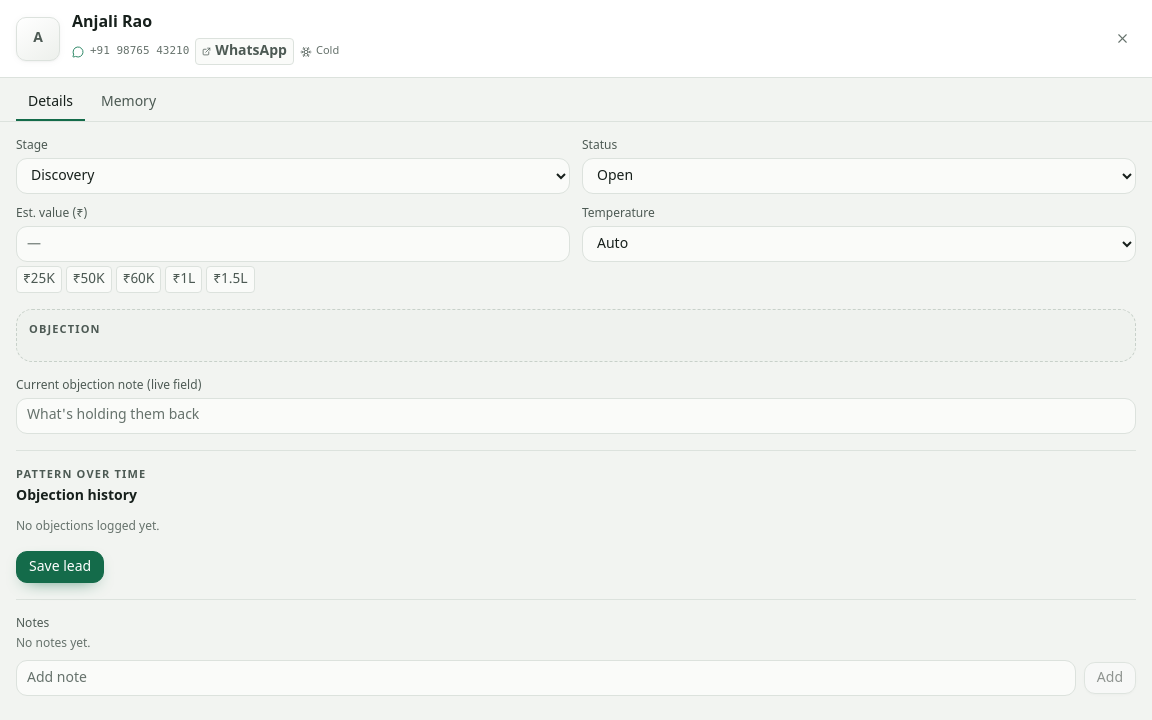
Test: LeadDrawer note failures › says so when the note is refused, and keeps the text to retry with
Type "Discussed the fee structure" into the field labelled "Add note" at (546, 678), box [16,660,1076,696]
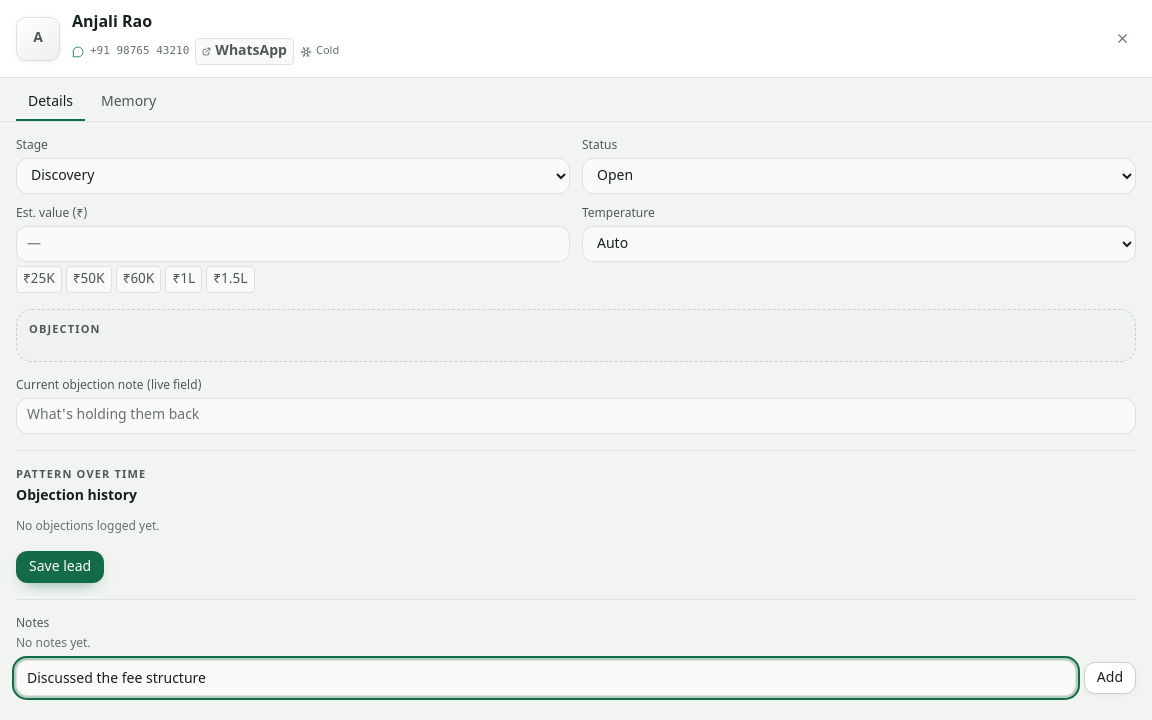
Click the button "Add" at (1110, 678), box [1084,662,1136,694]
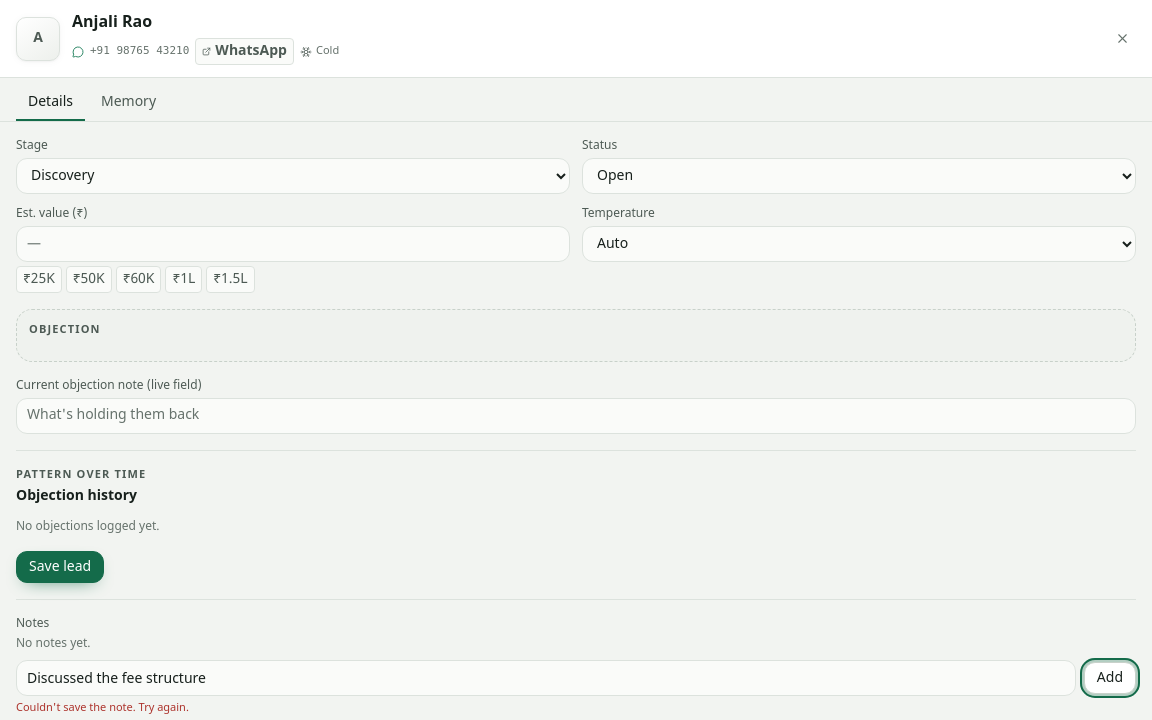
Expected: the message shows "Couldn't save the note", [16,701,189,715]
